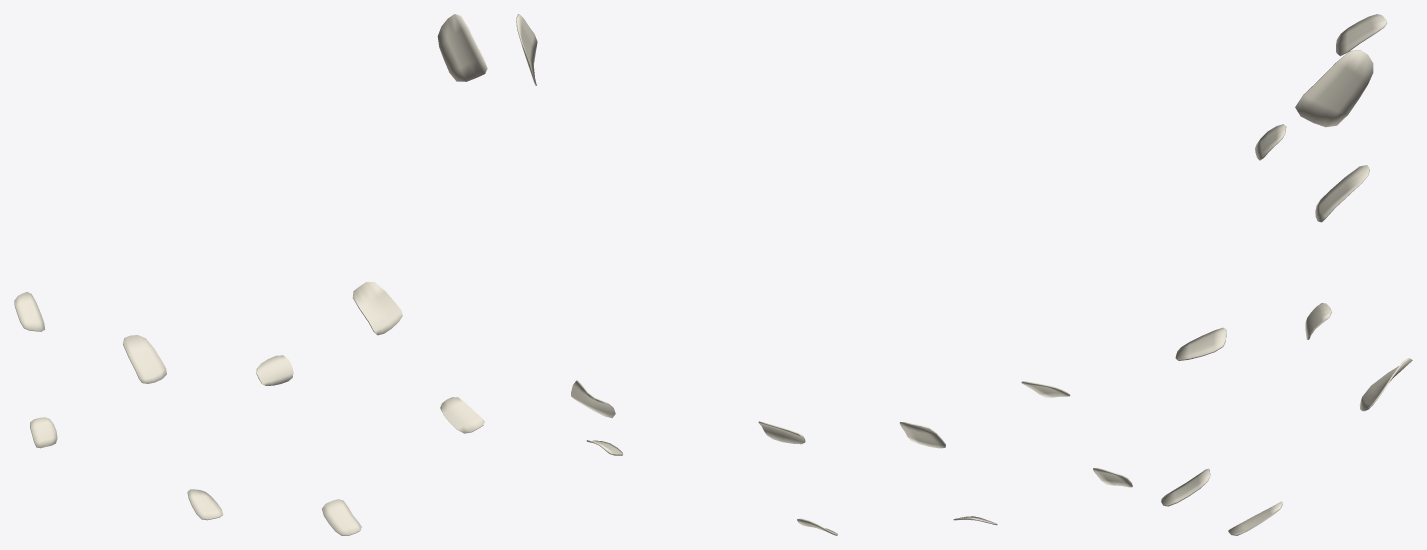
3 renders of one model, left to right at view 1: azimuth 30°, elevation 25°; view 2: azimuth 150°, elevation 25°; view 3: azimuth 270°, elevation 25°, orthographic. The views are drawn at different scales.
Parts seen in each view (by area): view 1: ZA_419f896c360b60d1; view 2: ZA_419f896c360b60d1; view 3: ZA_419f896c360b60d1.
Boxes of the visible parts, bbox=[...] form: ZA_419f896c360b60d1: bbox=[14, 14, 487, 535]; ZA_419f896c360b60d1: bbox=[516, 14, 1132, 535]; ZA_419f896c360b60d1: bbox=[1161, 14, 1412, 535].
Size of the model in its own units: 0.096 by 0.0834 by 0.0335.
